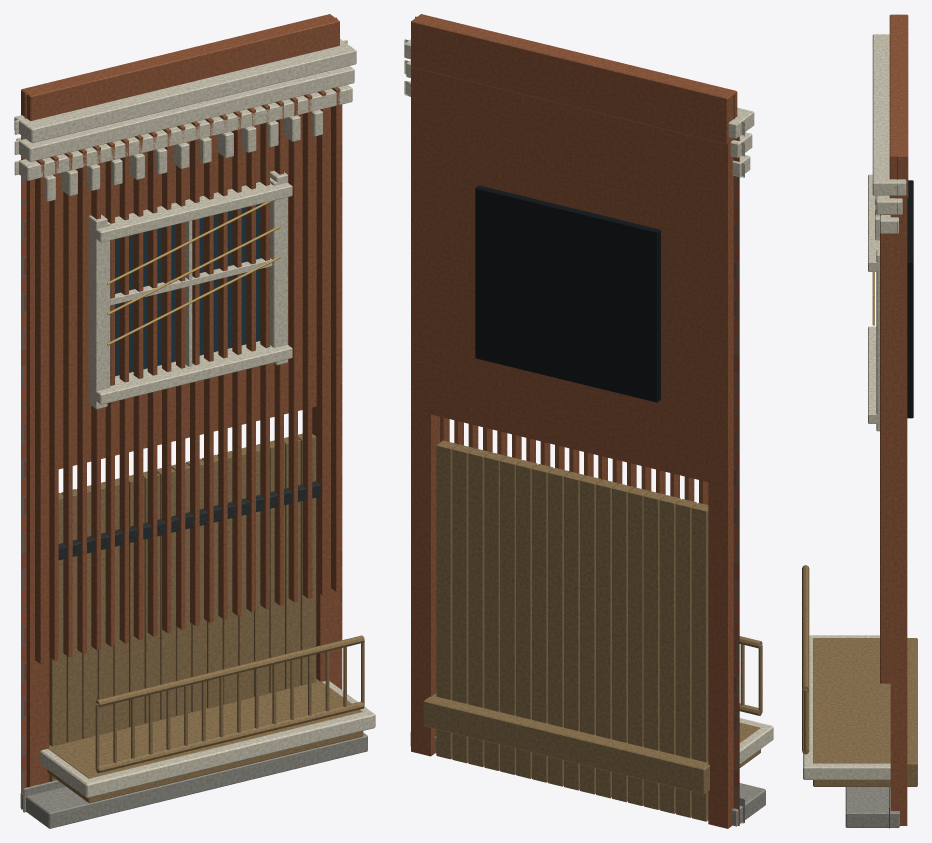
The model's file is WHSE17_lod1.glb.
3 renders of one model, left to right at view 1: azimuth 30°, elevation 25°; view 2: azimuth 150°, elevation 25°; view 3: azimuth 270°, elevation 25°, orthographic. The views are drawn at different scales.
Parts seen in each view (by area): view 1: WHSE17_FRONT_LOD1; view 2: WHSE17_FRONT_LOD1; view 3: WHSE17_FRONT_LOD1.
Part boxes in pixels (box(x1,y1,x2,y2)): WHSE17_FRONT_LOD1: box(14, 14, 375, 828); WHSE17_FRONT_LOD1: box(404, 14, 773, 828); WHSE17_FRONT_LOD1: box(802, 14, 917, 828).
Size of the model in its own units: 3.44 by 7.05 by 1.1.
10 materials, 7 textured.
